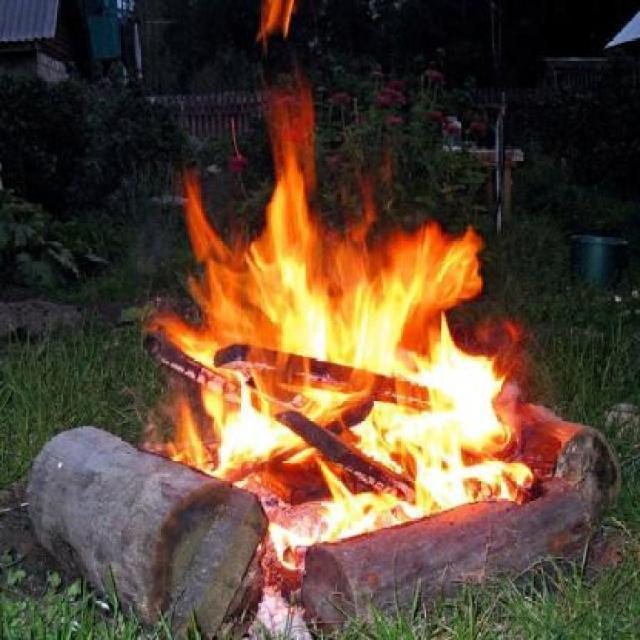fire: (153, 178, 534, 541)
